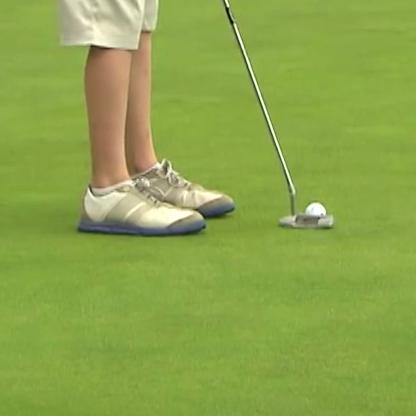golfball: (303, 200, 327, 219)
